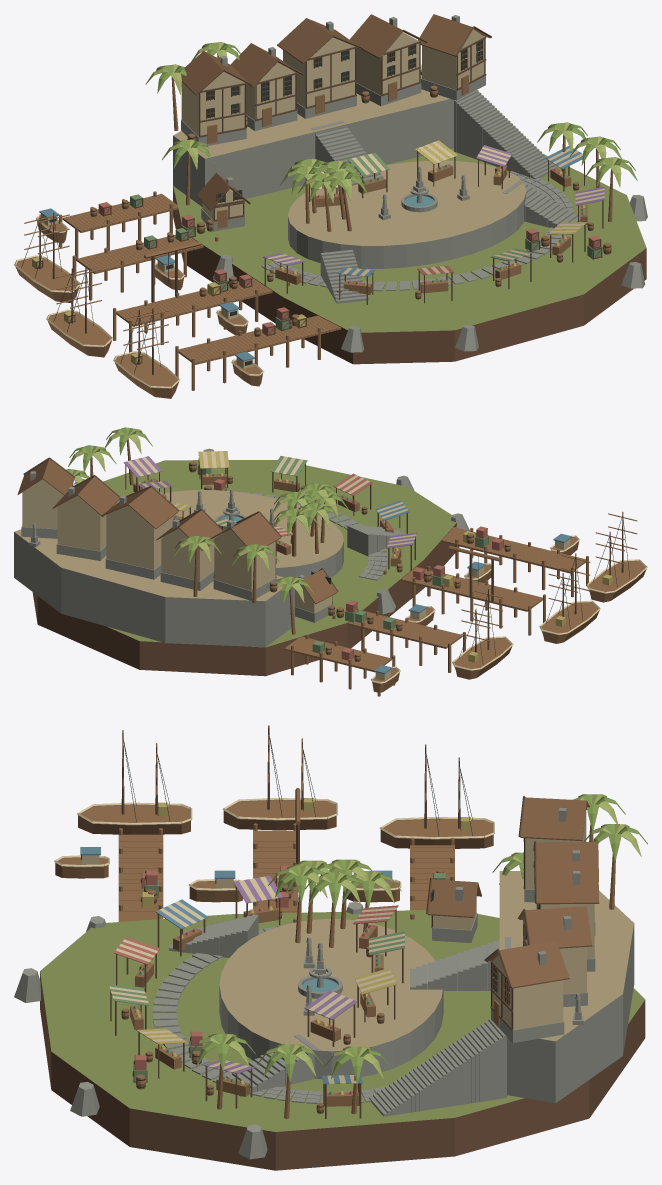
Rendered from MarketHarbor.gltf.
The picture shows the model from 3 angles, top to bottom: view 1: azimuth 30°, elevation 25°; view 2: azimuth 150°, elevation 25°; view 3: azimuth 270°, elevation 25°; orthographic projection. The views are drawn at different scales.
Parts seen in each view (by area): view 1: Terrain, Terraces, Buildings, Docks, Stairs, Ships, Roofs, Palms, Props, Awnings, Market, Timber (+6 smaller); view 2: Terrain, Terraces, Buildings, Docks, Ships, Roofs, Palms, Props, Awnings, Rigging, Market, Stairs (+5 smaller); view 3: Terrain, Terraces, Stairs, Ships, Roofs, Palms, Docks, Buildings, Awnings, Market, Paving, Props (+6 smaller).
Boxes of the visible parts, left/top/right/bottom form: Terrain: left=173, top=148, right=646, bottom=364; Terraces: left=173, top=75, right=526, bottom=268; Buildings: left=181, top=29, right=485, bottom=231; Docks: left=59, top=191, right=341, bottom=390; Stairs: left=311, top=90, right=580, bottom=303; Ships: left=14, top=208, right=264, bottom=398; Roofs: left=181, top=14, right=490, bottom=210; Palms: left=145, top=42, right=637, bottom=231; Props: left=32, top=85, right=611, bottom=364; Awnings: left=263, top=140, right=604, bottom=276; Market: left=264, top=149, right=603, bottom=304; Timber: left=195, top=26, right=491, bottom=221; Terrain: left=32, top=460, right=459, bottom=676; Terraces: left=14, top=490, right=343, bottom=647; Buildings: left=21, top=479, right=332, bottom=622; Docks: left=284, top=527, right=588, bottom=696; Ships: left=371, top=533, right=647, bottom=692; Roofs: left=17, top=459, right=337, bottom=604; Palms: left=66, top=427, right=348, bottom=634; Props: left=157, top=458, right=613, bottom=662; Awnings: left=73, top=451, right=416, bottom=548; Rigging: left=458, top=511, right=637, bottom=664; Market: left=125, top=452, right=415, bottom=570; Stairs: left=159, top=492, right=404, bottom=556; Terrain: left=40, top=910, right=645, bottom=1170; Terraces: left=219, top=871, right=634, bottom=1103; Stairs: left=169, top=914, right=510, bottom=1116; Ships: left=54, top=798, right=494, bottom=902; Roofs: left=427, top=797, right=599, bottom=988; Palms: left=190, top=794, right=647, bottom=1118; Docks: left=118, top=823, right=454, bottom=922; Buildings: left=432, top=810, right=595, bottom=1042; Awnings: left=108, top=876, right=404, bottom=1084; Market: left=110, top=877, right=403, bottom=1118; Paving: left=152, top=925, right=388, bottom=1103; Props: left=121, top=798, right=470, bottom=1113.
Size of the model in its own units: 72.63 by 19.42 by 56.56.
